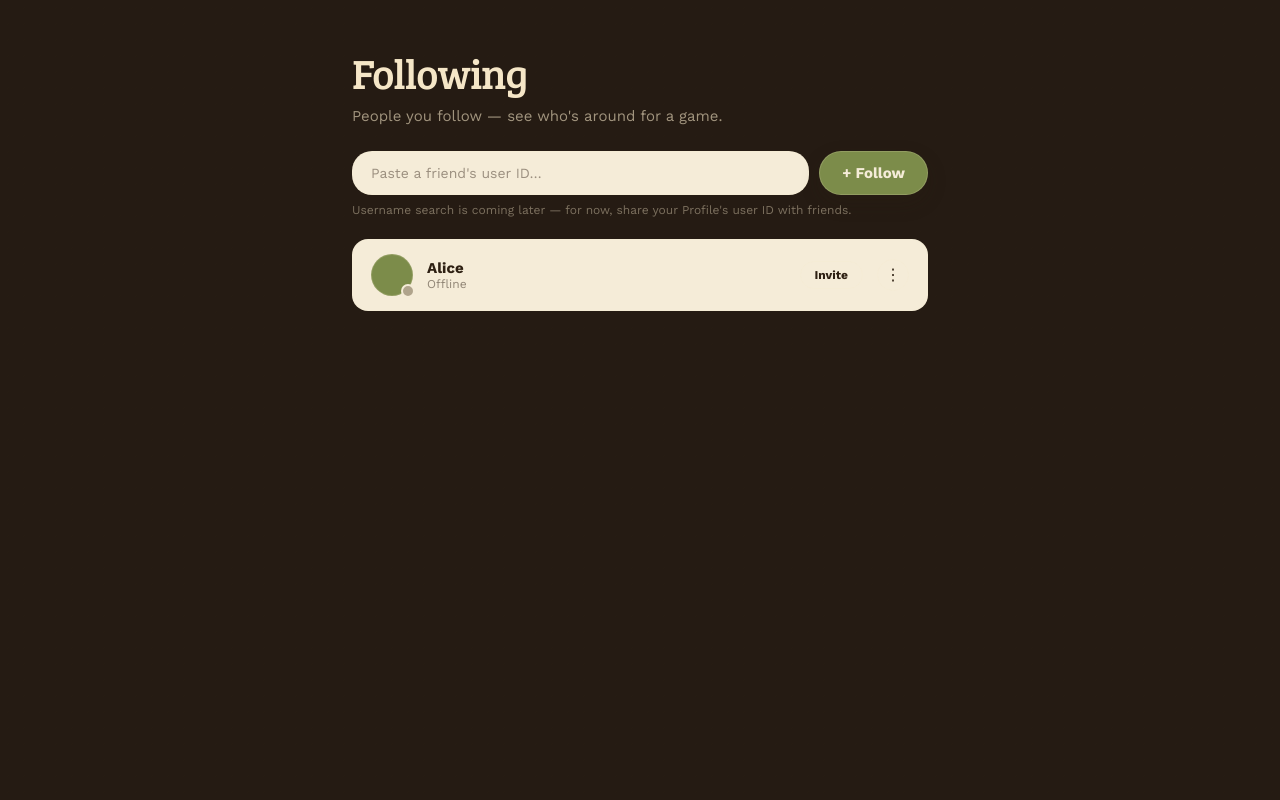
Test: FriendsContainer › Cancel closes the block modal without blocking
What coordinates should you click on to do the following:
click the button named "More options for Alice"
I would click on:
 (893, 275)
Its box is left=877, top=259, right=909, bottom=291.
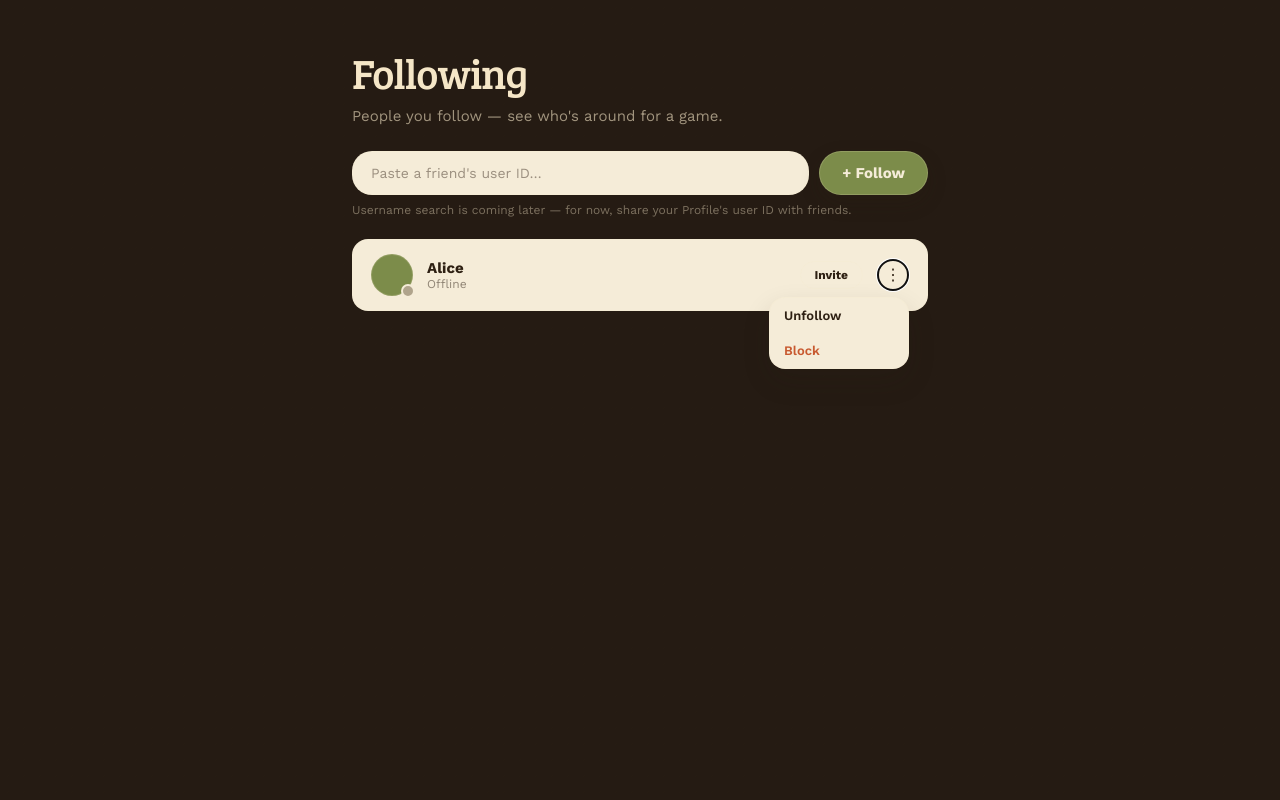
What coordinates should you click on to do the following:
click the menu item "Block"
I would click on:
 (839, 350)
Its box is left=770, top=333, right=908, bottom=368.
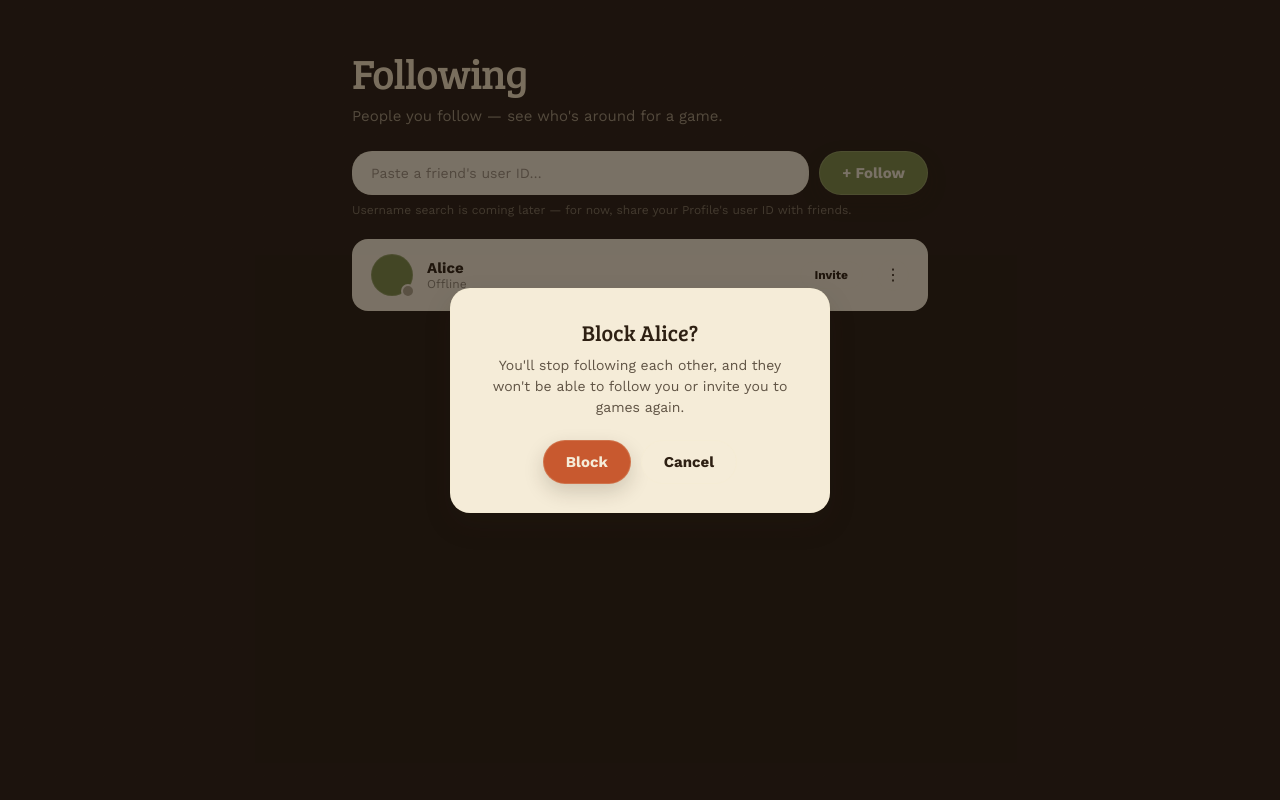
What coordinates should you click on to do the following:
click the button "Cancel"
I would click on:
 (689, 462)
Its box is left=641, top=440, right=737, bottom=484.
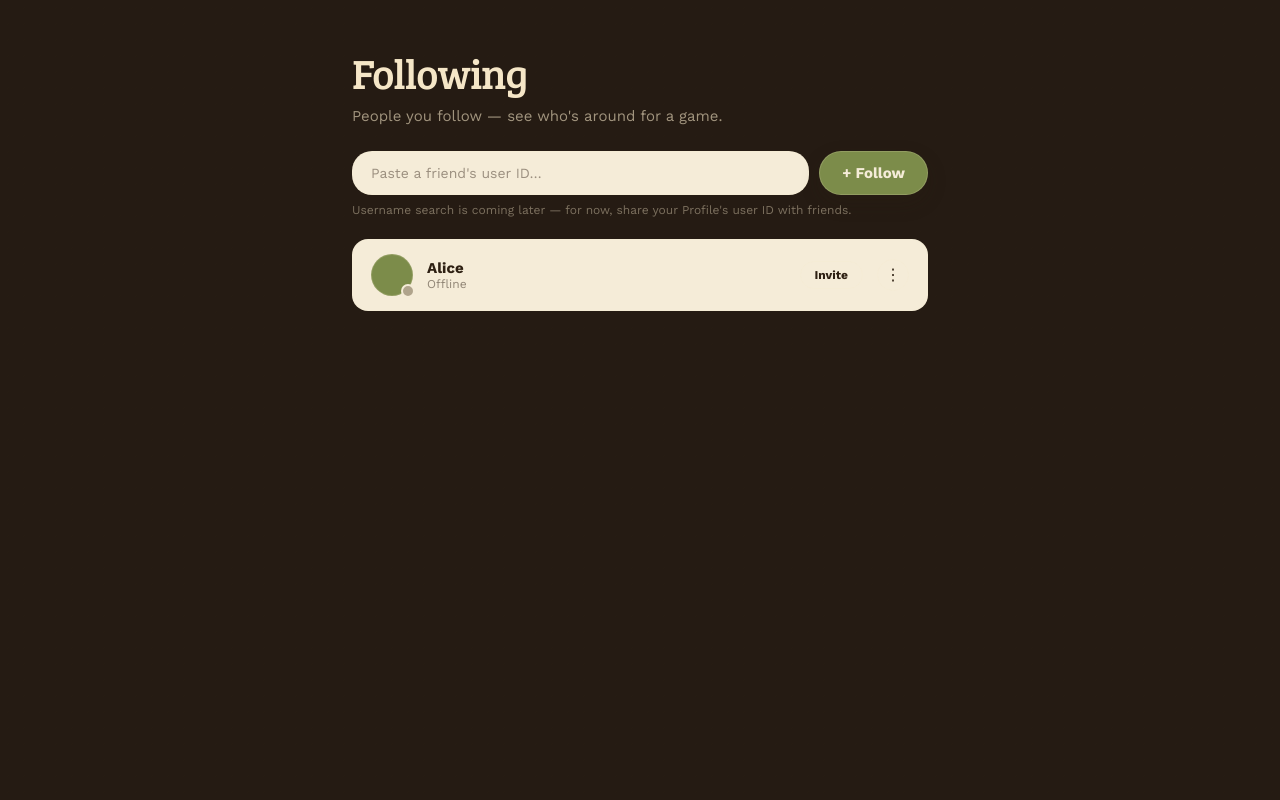
Result: the text "Block Alice?" is gone
